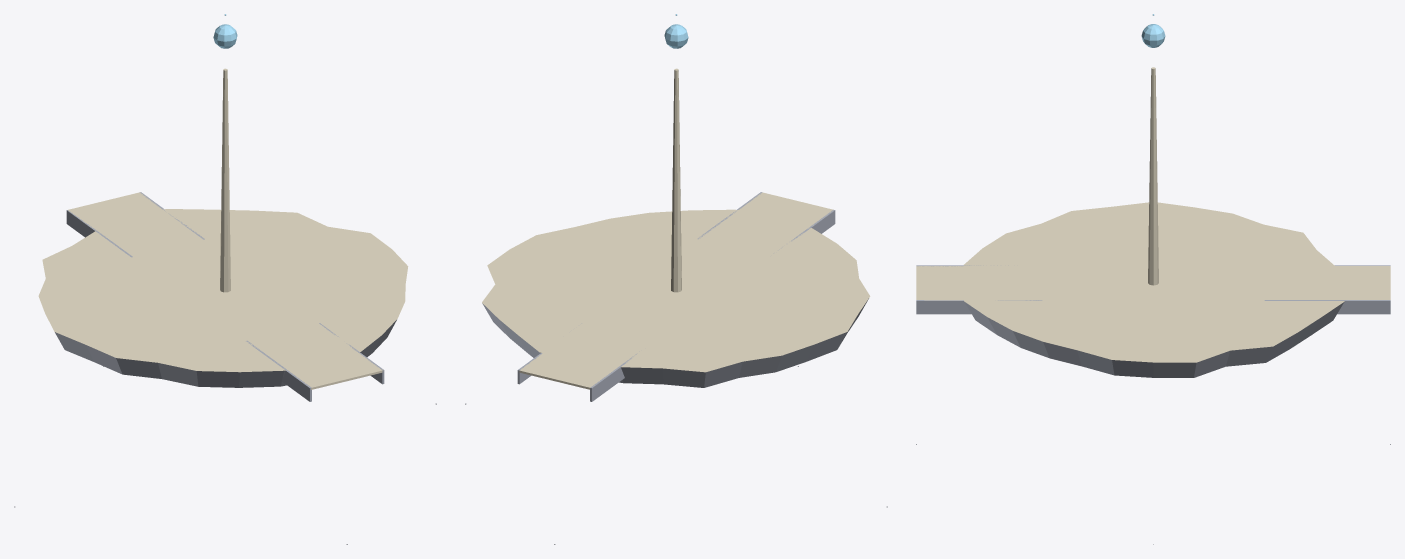
Rendered from chunk_es_mirror_pool.fbx.
The picture shows the model from 3 angles, left to right: view 1: azimuth 30°, elevation 25°; view 2: azimuth 150°, elevation 25°; view 3: azimuth 270°, elevation 25°; orthographic projection. The views are drawn at different scales.
Visible parts, largest first — view 1: ES_MIRROR_POOL; view 2: ES_MIRROR_POOL; view 3: ES_MIRROR_POOL.
Boxes of the visible parts, x1=… form: ES_MIRROR_POOL: x1=14, y1=14, x2=436, y2=544; ES_MIRROR_POOL: x1=465, y1=14, x2=887, y2=544; ES_MIRROR_POOL: x1=916, y1=14, x2=1390, y2=544.
Bounding box in the file's own units: 256 × 256 × 256.
